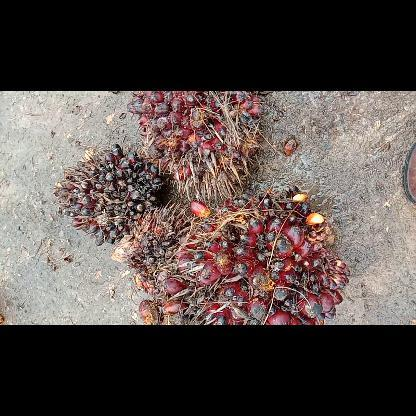Kurang masak: (140, 186, 348, 324)
TBS abnormal: (53, 143, 165, 245), (110, 202, 190, 292)
TBS masak: (127, 90, 264, 206)
